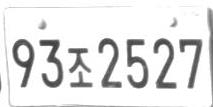2: (97, 37, 123, 88), (152, 37, 177, 89)
3: (38, 38, 63, 88)
5: (126, 38, 149, 88)
7: (178, 38, 202, 89)
9: (12, 38, 34, 87)
조: (67, 47, 92, 87)
